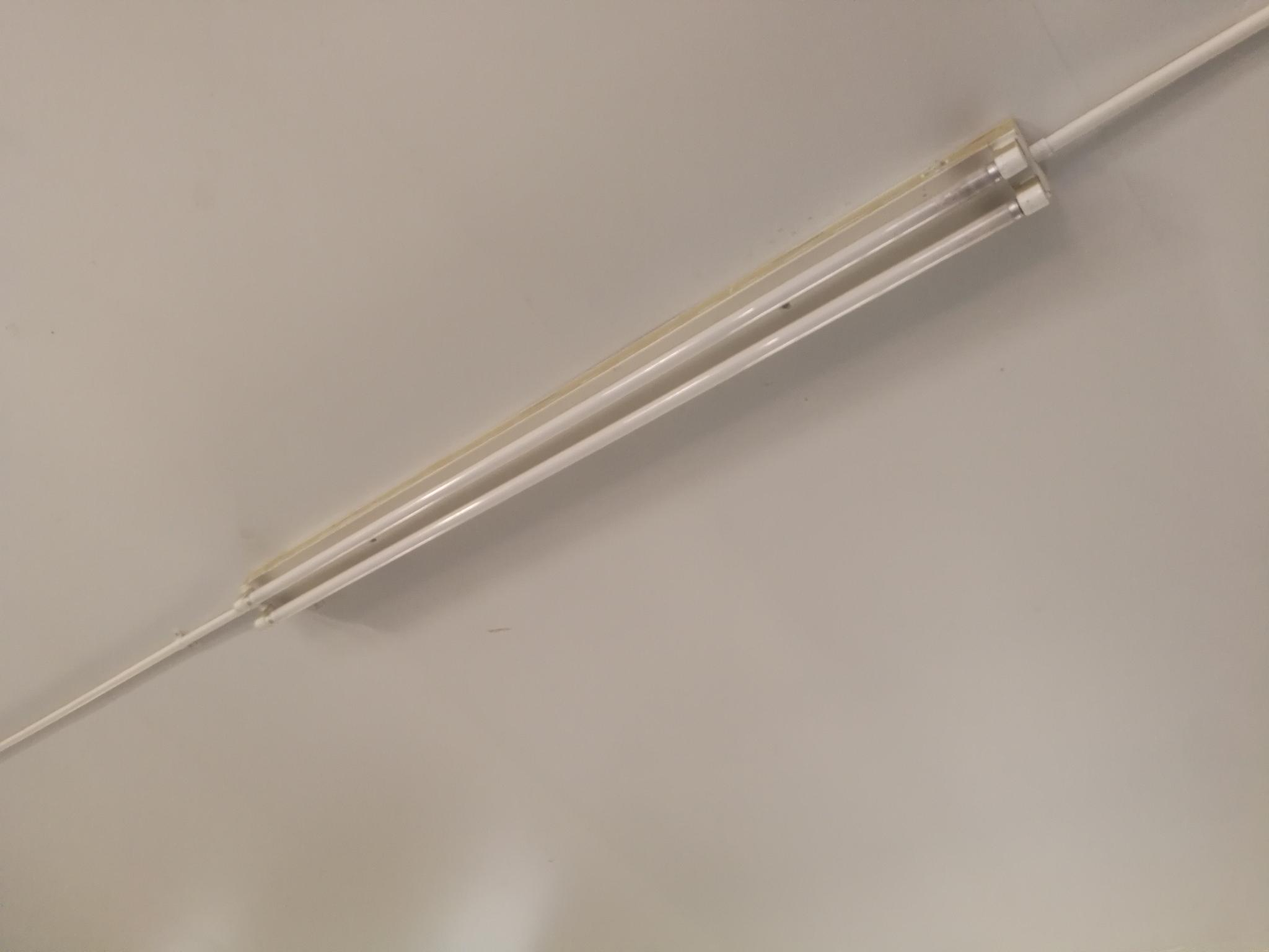light: (231, 102, 1071, 643)
